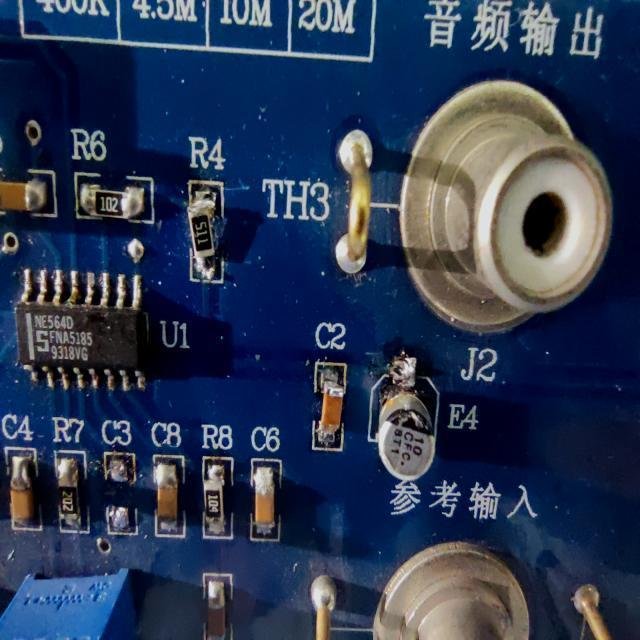Missing component: (98, 414, 140, 554)
